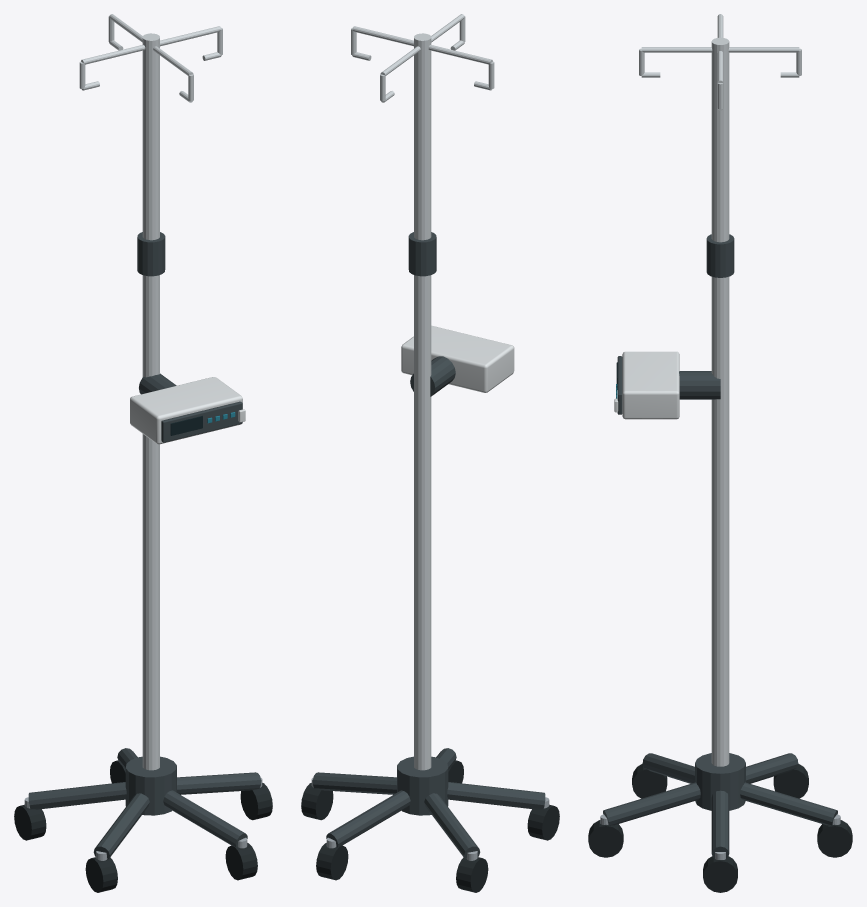
Rendered from iv_pole_pump.fbx.
The picture shows the model from 3 angles, left to right: view 1: azimuth 30°, elevation 25°; view 2: azimuth 150°, elevation 25°; view 3: azimuth 270°, elevation 25°; orthographic projection.
Visible parts, largest first — view 1: EQ_iv_pole_pump_Upright, EQ_iv_pole_pump_Body, EQ_iv_pole_pump_Hub, EQ_iv_pole_pump_Leg2_0, EQ_iv_pole_pump_Leg4_0, EQ_iv_pole_pump_Leg0_0, EQ_iv_pole_pump_Door, EQ_iv_pole_pump_Leg3_0, EQ_iv_pole_pump_AdjustmentCollar, EQ_iv_pole_pump_Caster3, EQ_iv_pole_pump_Caster4, EQ_iv_pole_pump_Caster2 (+1 smaller); view 2: EQ_iv_pole_pump_Upright, EQ_iv_pole_pump_Body, EQ_iv_pole_pump_Hub, EQ_iv_pole_pump_Leg3_0, EQ_iv_pole_pump_Leg1_0, EQ_iv_pole_pump_Leg0_0, EQ_iv_pole_pump_Leg2_0, EQ_iv_pole_pump_AdjustmentCollar, EQ_iv_pole_pump_Caster2, EQ_iv_pole_pump_Caster1, EQ_iv_pole_pump_Caster3, EQ_iv_pole_pump_Caster0 (+1 smaller); view 3: EQ_iv_pole_pump_Upright, EQ_iv_pole_pump_Body, EQ_iv_pole_pump_Hub, EQ_iv_pole_pump_Leg1_0, EQ_iv_pole_pump_Leg4_0, EQ_iv_pole_pump_Leg0_0, EQ_iv_pole_pump_Clamp, EQ_iv_pole_pump_AdjustmentCollar, EQ_iv_pole_pump_Caster0, EQ_iv_pole_pump_Caster1, EQ_iv_pole_pump_Caster4, EQ_iv_pole_pump_Leg2_0 (+3 smaller).
Boxes of the visible parts, box(x1,y1,x2,y2) form: EQ_iv_pole_pump_Upright: box(142, 33, 159, 770); EQ_iv_pole_pump_Body: box(130, 377, 242, 444); EQ_iv_pole_pump_Hub: box(125, 756, 176, 815); EQ_iv_pole_pump_Leg2_0: box(28, 782, 126, 809); EQ_iv_pole_pump_Leg4_0: box(163, 790, 247, 847); EQ_iv_pole_pump_Leg0_0: box(177, 772, 261, 794); EQ_iv_pole_pump_Door: box(161, 401, 242, 442); EQ_iv_pole_pump_Leg3_0: box(93, 793, 149, 859); EQ_iv_pole_pump_AdjustmentCollar: box(137, 232, 165, 276); EQ_iv_pole_pump_Caster3: box(85, 857, 117, 892); EQ_iv_pole_pump_Caster4: box(225, 843, 257, 880); EQ_iv_pole_pump_Caster2: box(14, 804, 46, 840); EQ_iv_pole_pump_Upright: box(414, 33, 431, 770); EQ_iv_pole_pump_Body: box(401, 325, 514, 392); EQ_iv_pole_pump_Hub: box(397, 756, 448, 815); EQ_iv_pole_pump_Leg3_0: box(447, 782, 545, 809); EQ_iv_pole_pump_Leg1_0: box(326, 790, 410, 847); EQ_iv_pole_pump_Leg0_0: box(312, 772, 396, 794); EQ_iv_pole_pump_Leg2_0: box(424, 793, 480, 859); EQ_iv_pole_pump_AdjustmentCollar: box(408, 232, 436, 276); EQ_iv_pole_pump_Caster2: box(456, 857, 488, 892); EQ_iv_pole_pump_Caster1: box(316, 843, 348, 880); EQ_iv_pole_pump_Caster3: box(527, 804, 559, 840); EQ_iv_pole_pump_Caster0: box(301, 783, 333, 820); EQ_iv_pole_pump_Upright: box(711, 37, 729, 766); EQ_iv_pole_pump_Body: box(622, 351, 679, 419); EQ_iv_pole_pump_Hub: box(695, 753, 745, 810); EQ_iv_pole_pump_Leg1_0: box(740, 782, 837, 825); EQ_iv_pole_pump_Leg4_0: box(603, 782, 700, 825); EQ_iv_pole_pump_Leg0_0: box(711, 790, 729, 858); EQ_iv_pole_pump_Clamp: box(679, 371, 720, 399); EQ_iv_pole_pump_AdjustmentCollar: box(706, 234, 734, 277); EQ_iv_pole_pump_Caster0: box(703, 856, 737, 892); EQ_iv_pole_pump_Caster1: box(817, 820, 852, 857); EQ_iv_pole_pump_Caster4: box(588, 820, 623, 857); EQ_iv_pole_pump_Leg2_0: box(746, 753, 798, 783).
Size of the model in its own units: 0.5063 by 1.9 by 0.5705.
